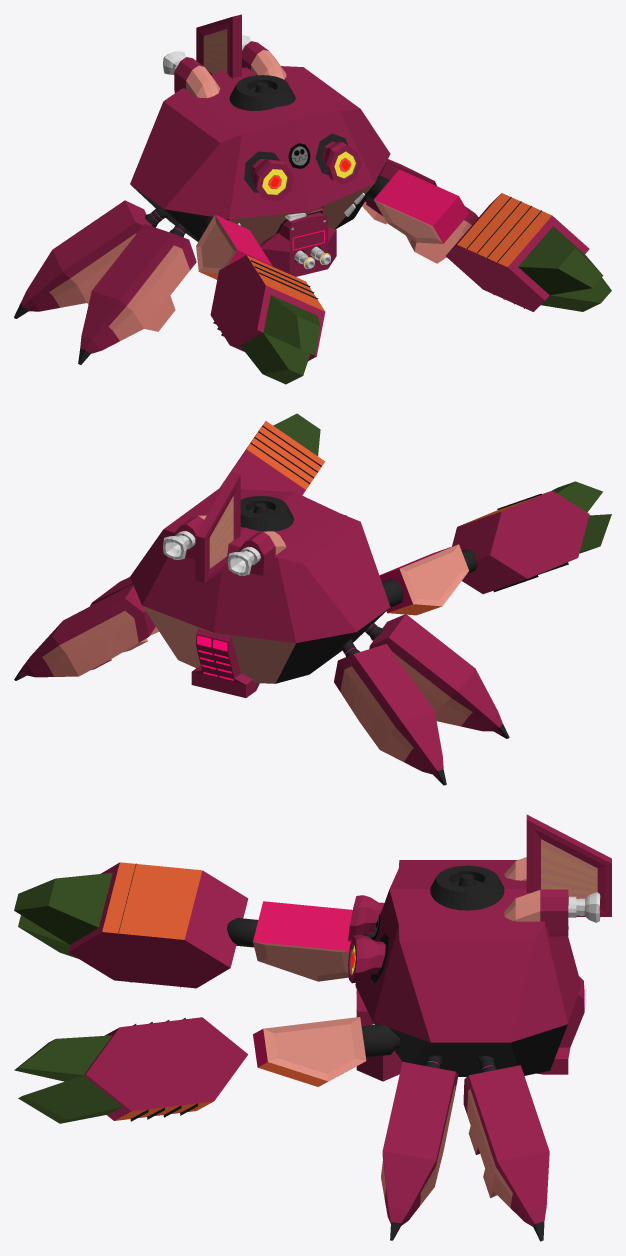
The model's file is crab.glb.
3 views of the same model, one above another, from view 1: azimuth 30°, elevation 25°; view 2: azimuth 150°, elevation 25°; view 3: azimuth 270°, elevation 25° (orthographic). The views are drawn at different scales.
Parts seen in each view (by area): view 1: Cube.038, Cube.029, Cube.032, Cube.031, Cube.028, Cube.037, Cube.034, Cube.033, Circle.005; view 2: Cube.038, Cube.029, Cube.031, Cube.032, Cube.028, Cube.033, Cube.034, Cube.037, Circle.005; view 3: Cube.029, Cube.038, Cube.028, Cube.031, Cube.032, Cube.033, Cube.034, Circle.005, Cube.037, Cylinder.020, Cylinder.019.
Part boxes in pixels (box(x1,y1,x2,y2)): Cube.038: box(130, 66, 390, 245); Cube.029: box(210, 193, 611, 384); Cube.032: box(78, 164, 478, 364); Cube.031: box(14, 159, 436, 318); Cube.028: box(196, 169, 468, 279); Cube.037: box(260, 212, 336, 276); Cube.034: box(163, 35, 286, 98); Cube.033: box(196, 14, 241, 78); Circle.005: box(229, 75, 295, 110); Cube.038: box(130, 487, 390, 683); Cube.029: box(220, 413, 611, 594); Cube.031: box(14, 584, 446, 785); Cube.032: box(90, 577, 509, 738); Cube.028: box(379, 544, 468, 615); Cube.033: box(195, 472, 240, 582); Cube.034: box(163, 515, 286, 576); Cube.037: box(191, 628, 259, 697); Circle.005: box(240, 496, 293, 531); Cube.029: box(14, 862, 248, 1123); Cube.038: box(348, 860, 581, 1076); Cube.028: box(253, 901, 366, 1086); Cube.031: box(463, 1065, 549, 1241); Cube.032: box(381, 1062, 458, 1240); Cube.033: box(526, 814, 611, 916); Cube.034: box(504, 857, 600, 936); Circle.005: box(430, 865, 504, 910); Cube.037: box(356, 976, 584, 1081); Cylinder.020: box(361, 933, 400, 1057); Cylinder.019: box(227, 918, 258, 947).
Size of the model in its own units: 44.56 by 25.14 by 45.22.
Materials: 16 (1 with a texture image).
